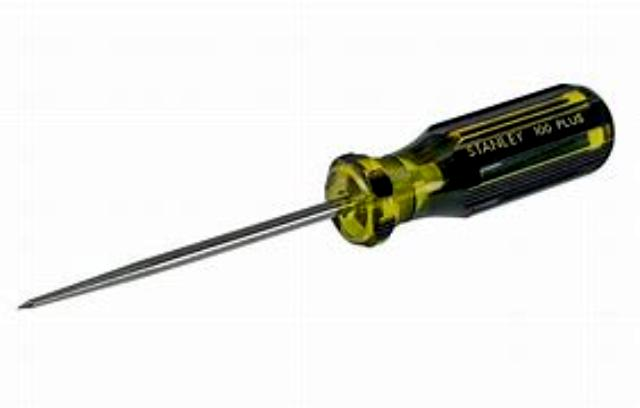ice pick: (23, 71, 619, 309)
